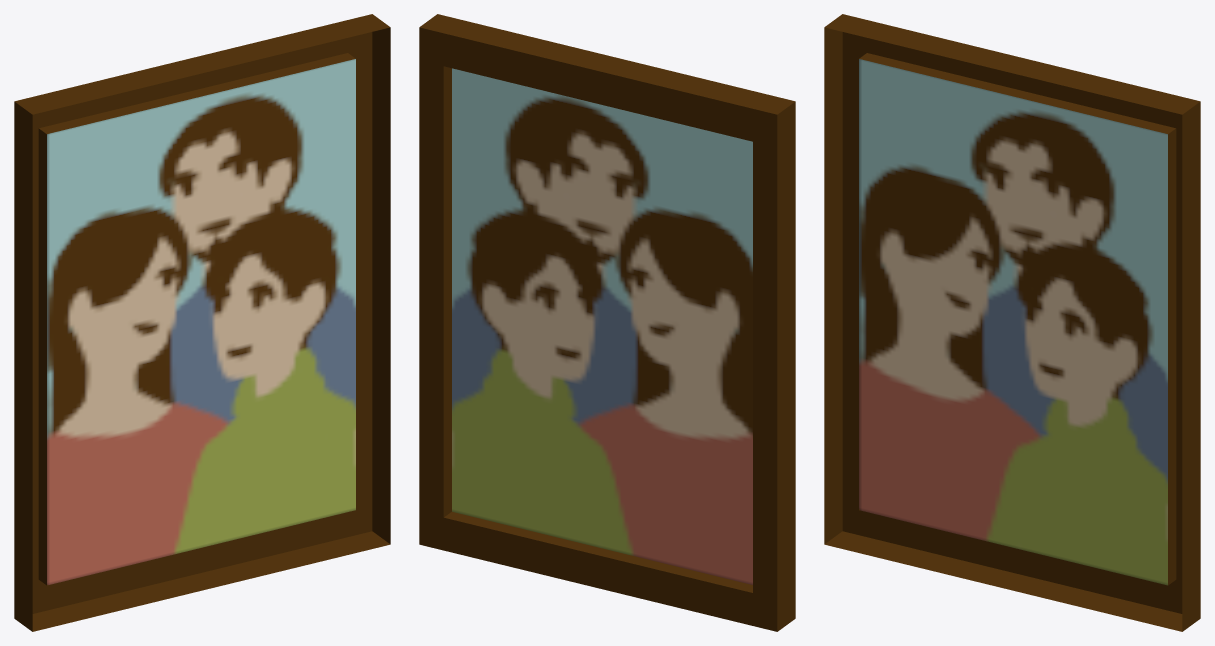
Rendered from interactible_portrait_dad.fbx.
3 renders of one model, left to right at view 1: azimuth 30°, elevation 25°; view 2: azimuth 150°, elevation 25°; view 3: azimuth 330°, elevation 25°, orthographic.
Parts seen in each view (by area): view 1: interactible_portrait_momanddad; view 2: interactible_portrait_momanddad; view 3: interactible_portrait_momanddad.
Part boxes in pixels (x1=…): interactible_portrait_momanddad: x1=14, y1=14, x2=390, y2=631; interactible_portrait_momanddad: x1=419, y1=14, x2=795, y2=631; interactible_portrait_momanddad: x1=824, y1=14, x2=1200, y2=631.
Bounding box in the file's own units: 0.442 × 0.61 × 0.0391.
